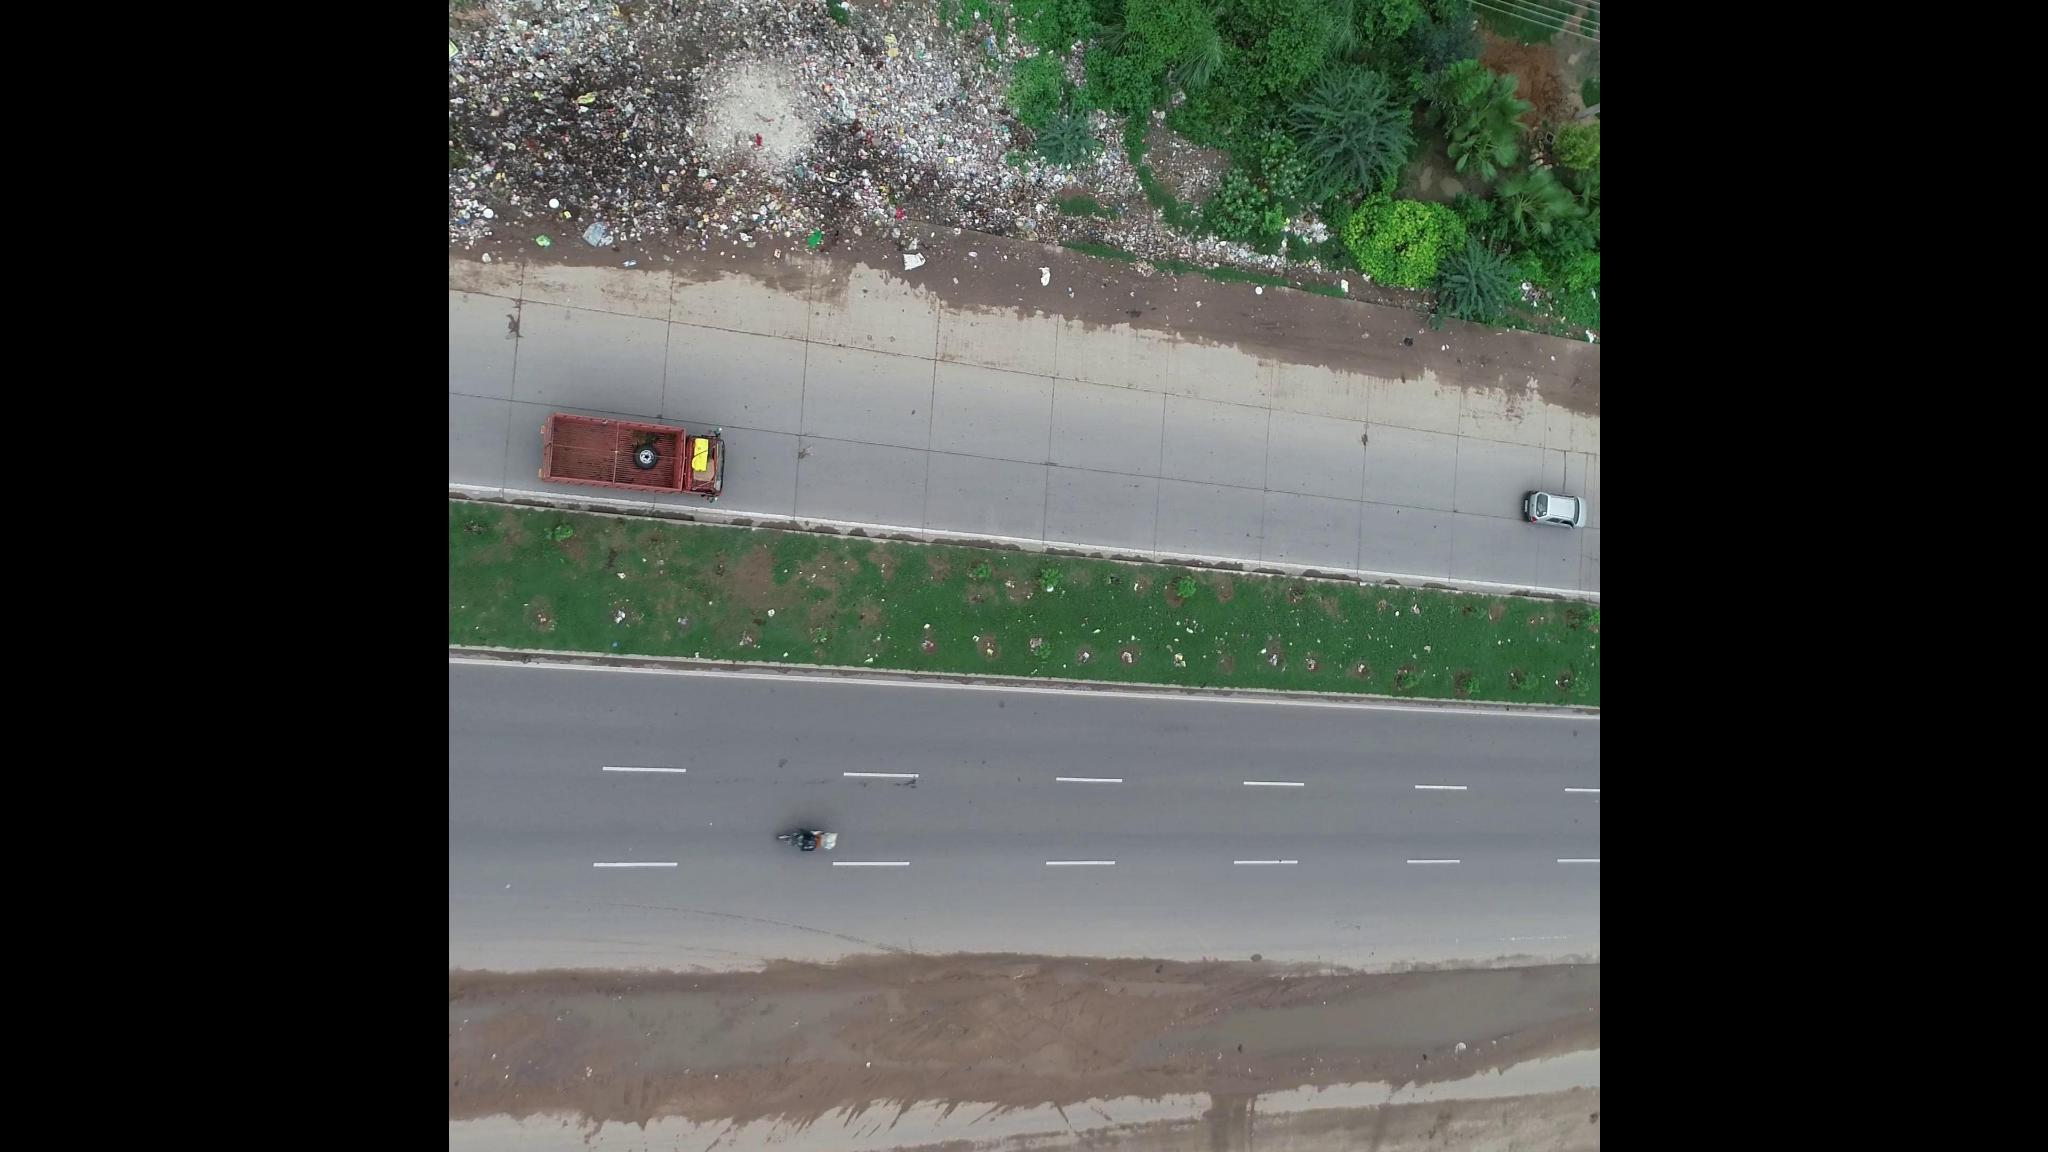Road_side_garbage: (672, 32, 926, 198)
